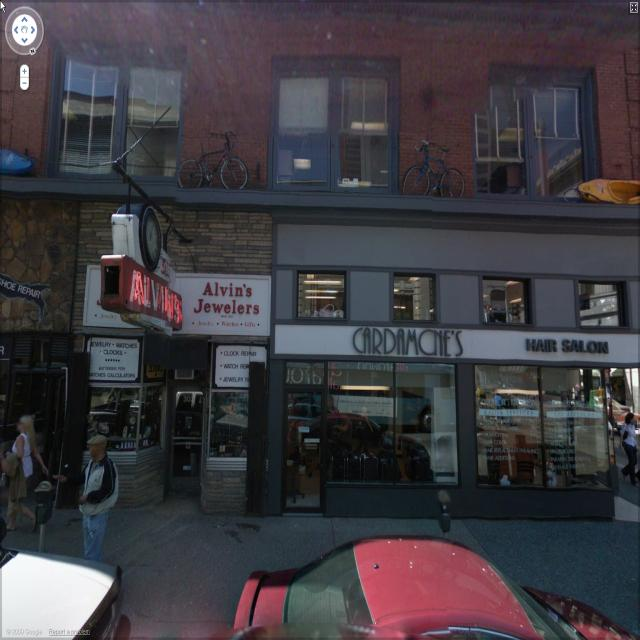b_1: (17, 1, 618, 463)
